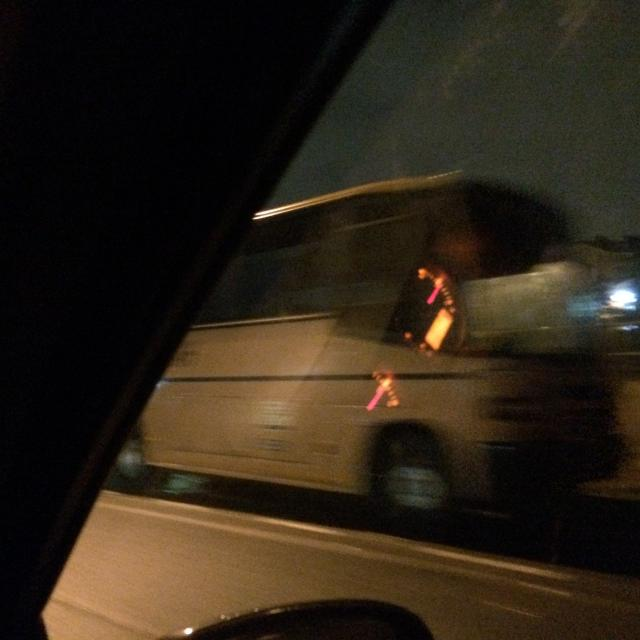Bus: (119, 170, 640, 562)
car: (0, 4, 388, 640)
